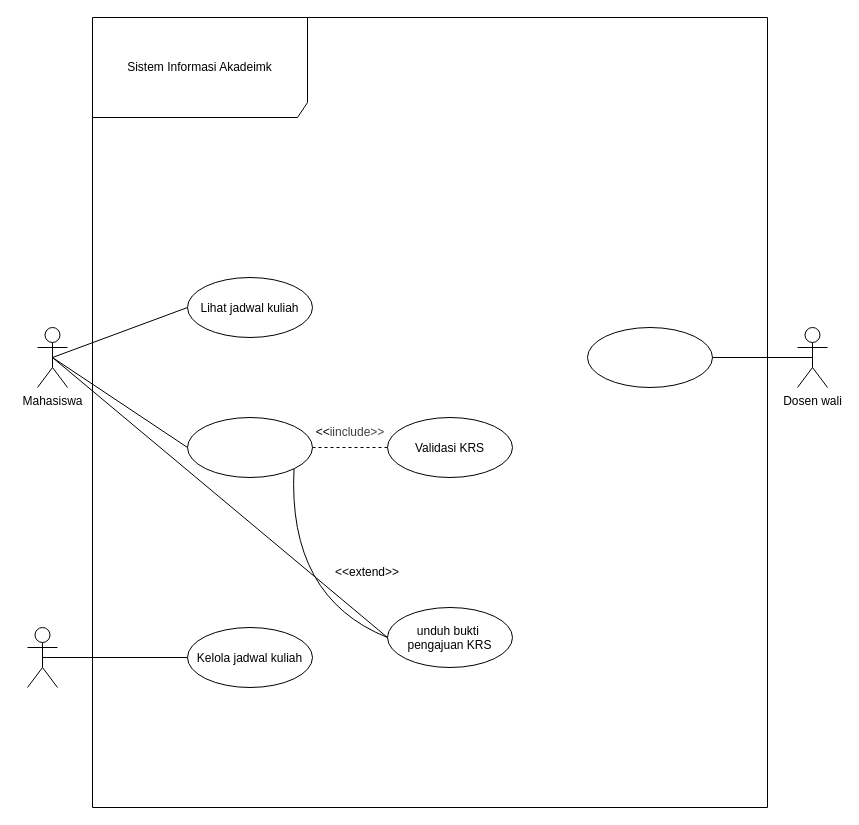
Some shapes in this 859 by 825 pixel diagram are drawn without their labels. Each missing label, with the centre of its shape:
Admin akademik: pixel 42 657
Ajukan KRS: pixel 249 447
Proses keputusan KRS: pixel 649 357
